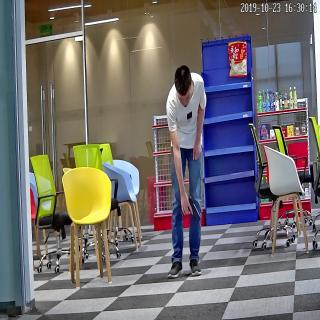gun: (179, 191, 202, 227)
